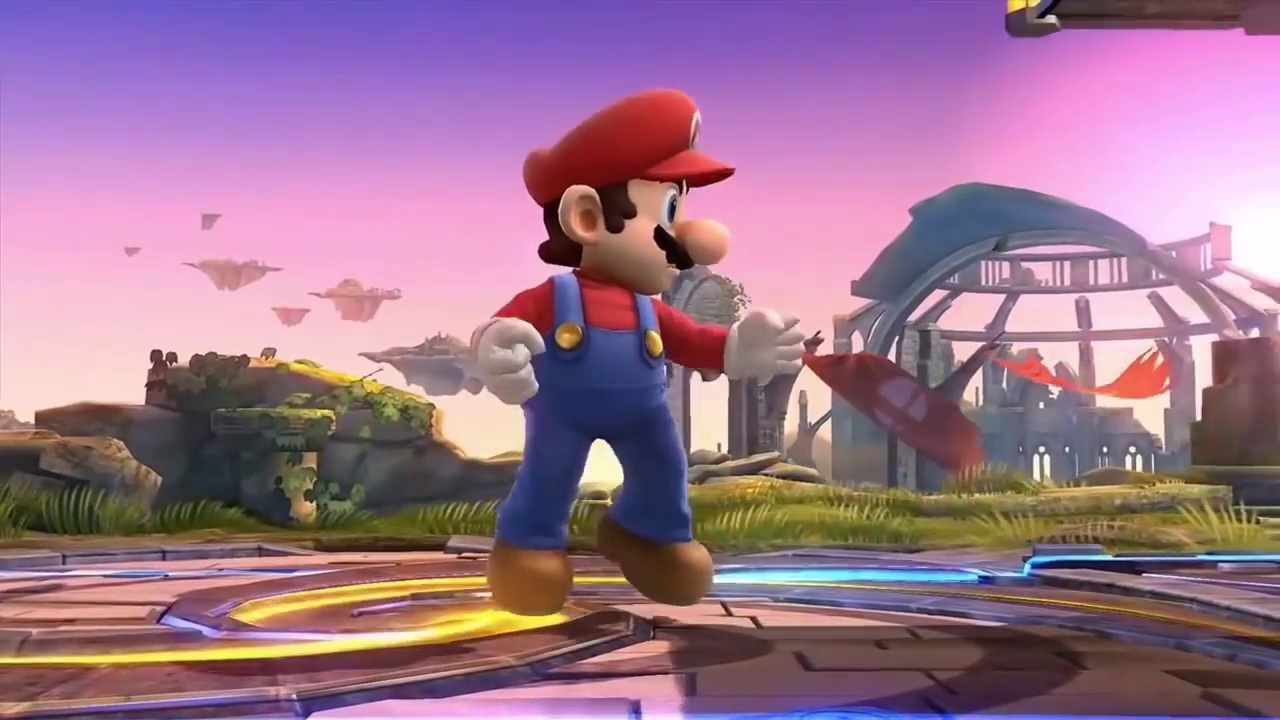Mario: (473, 88, 802, 618)
